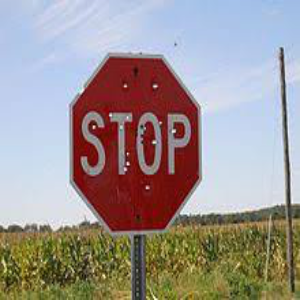STOP_SIGN: (68, 51, 203, 236)
